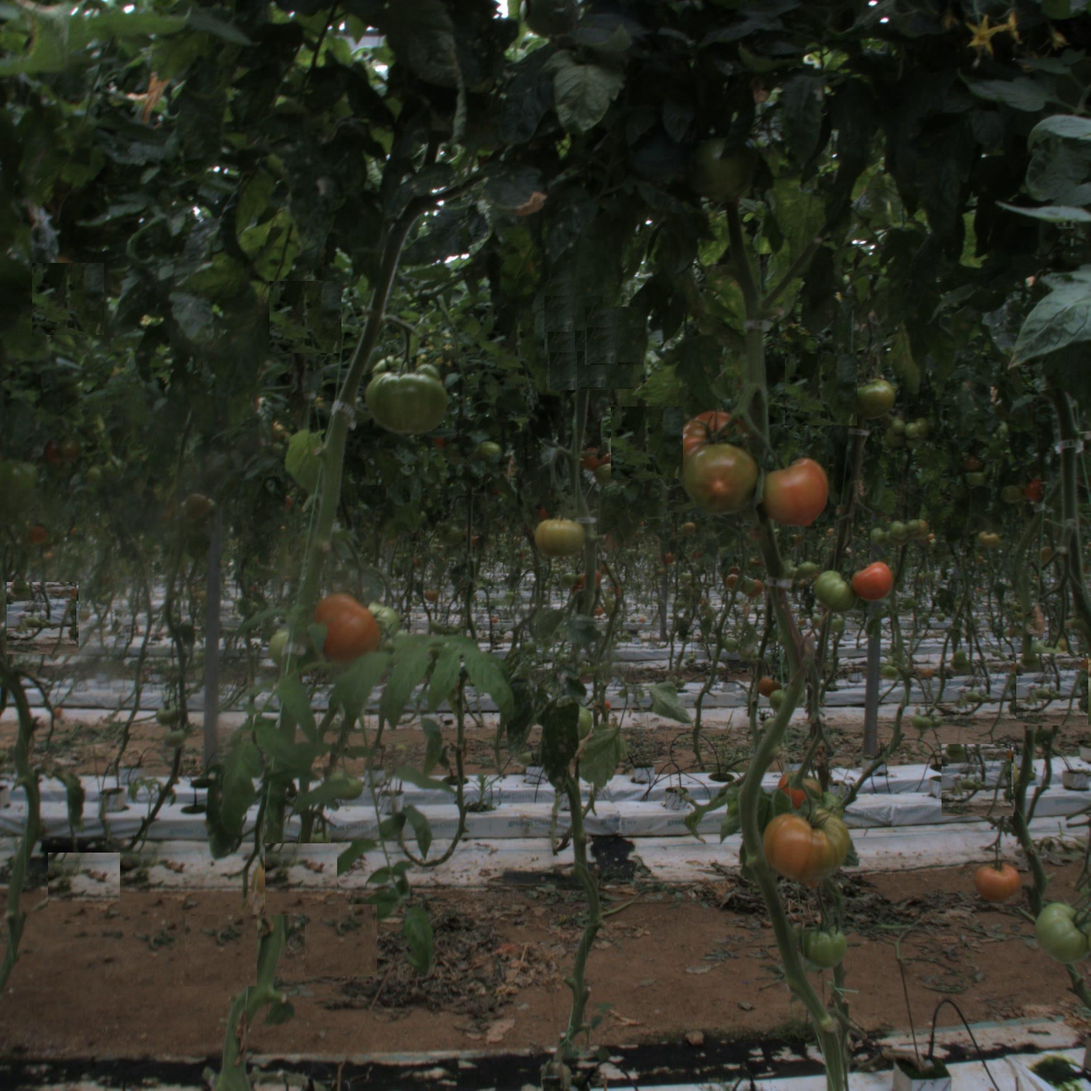fully-ripe: (310, 591, 384, 665), (757, 454, 831, 528), (979, 861, 1018, 901), (854, 560, 893, 599)
semi-ripe: (765, 799, 848, 882), (685, 438, 759, 512)
unripe: (369, 353, 452, 436), (684, 129, 758, 203), (1032, 906, 1089, 962), (799, 920, 849, 970), (535, 512, 583, 560), (856, 378, 896, 417), (816, 570, 855, 609)
